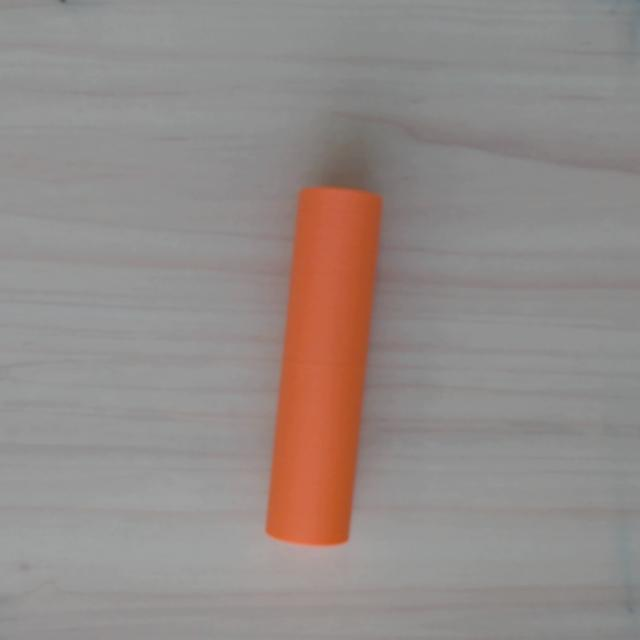Silinder-Jingga-10025: (263, 183, 384, 550)
